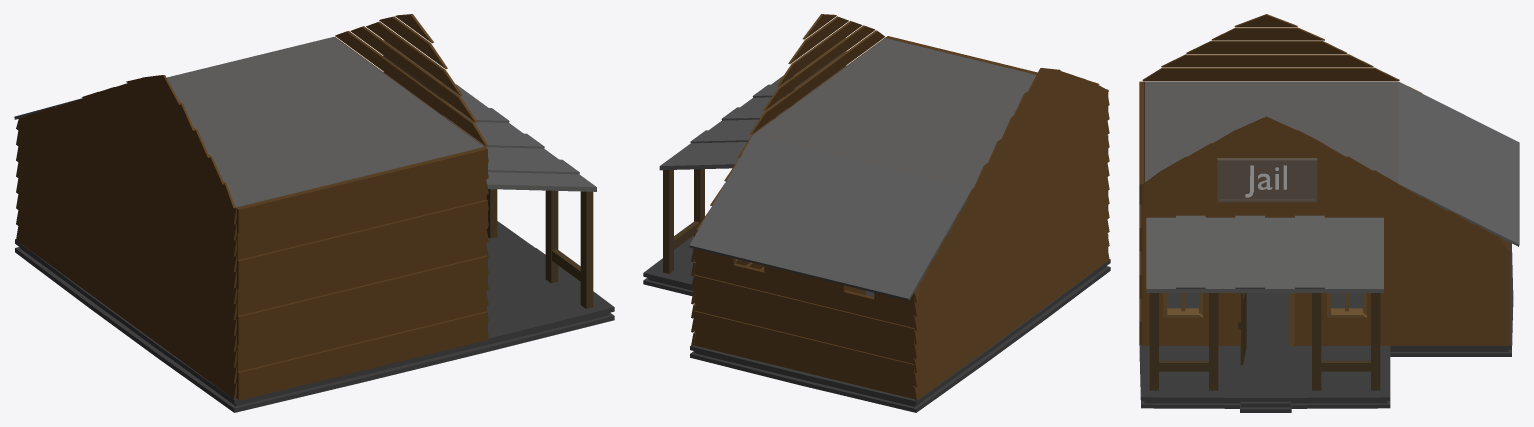
The model's file is Jail.fbx.
3 renders of one model, left to right at view 1: azimuth 30°, elevation 25°; view 2: azimuth 150°, elevation 25°; view 3: azimuth 270°, elevation 25°, orthographic. The views are drawn at different scales.
Visible parts, largest first — view 1: Jail_Merged; view 2: Jail_Merged; view 3: Jail_Merged.
Part boxes in pixels (x1=…): Jail_Merged: x1=14, y1=14, x2=614, y2=412; Jail_Merged: x1=643, y1=14, x2=1110, y2=412; Jail_Merged: x1=1139, y1=14, x2=1519, y2=412.
Size of the model in its own units: 841 by 579 by 835.
